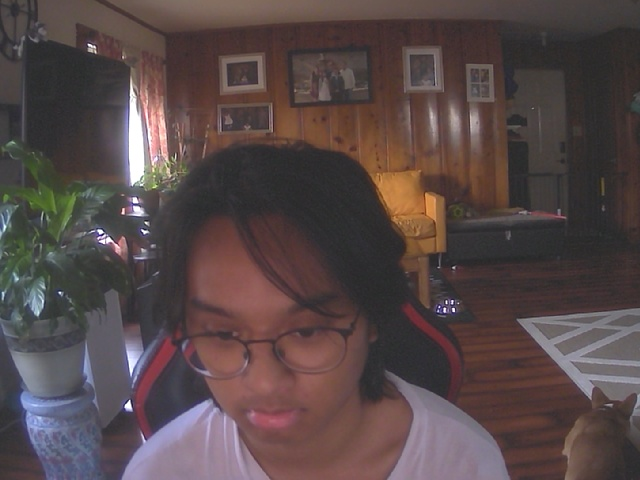sad: (162, 159, 385, 447)
